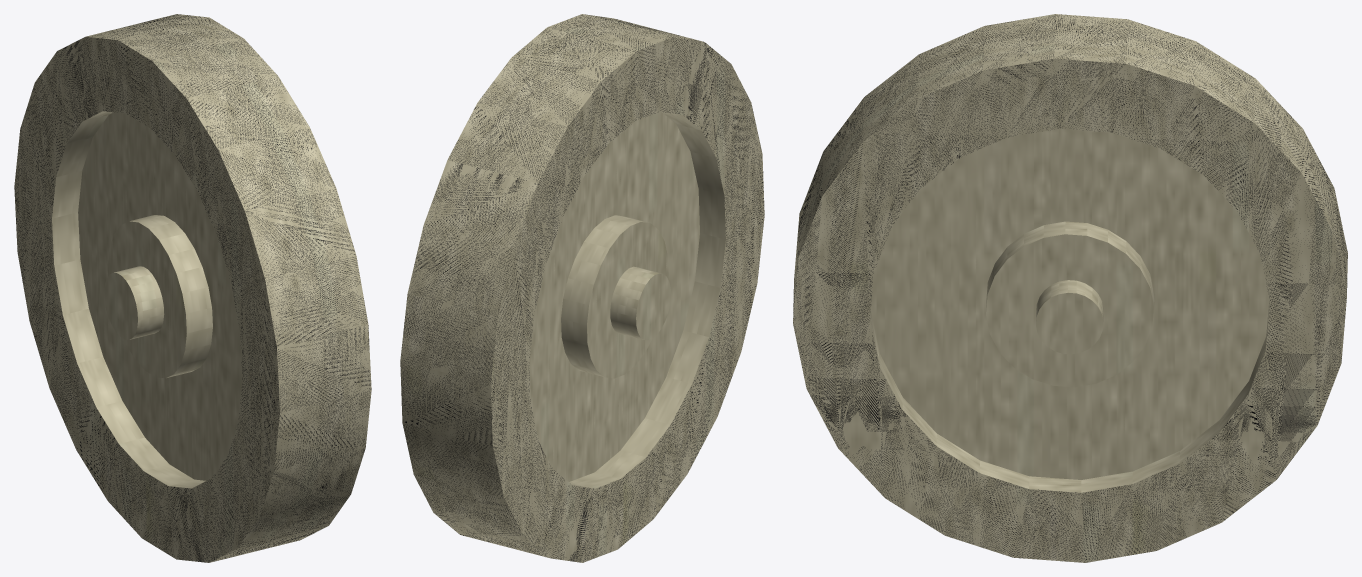
The model's file is original-4.obj.
3 views of the same model, side by side, from view 1: azimuth 30°, elevation 25°; view 2: azimuth 150°, elevation 25°; view 3: azimuth 270°, elevation 25° (orthographic). The views are drawn at different scales.
Visible parts, largest first — view 1: mesh1/mesh1-geometry#mesh1-geometry; view 2: mesh1/mesh1-geometry#mesh1-geometry; view 3: mesh1/mesh1-geometry#mesh1-geometry.
Part boxes in pixels (box(x1,y1,x2,y2)): mesh1/mesh1-geometry#mesh1-geometry: box(14, 14, 371, 562); mesh1/mesh1-geometry#mesh1-geometry: box(400, 14, 764, 562); mesh1/mesh1-geometry#mesh1-geometry: box(793, 14, 1347, 562).
Bounding box in the file's own units: 0.0511 × 0.1664 × 0.1664.
